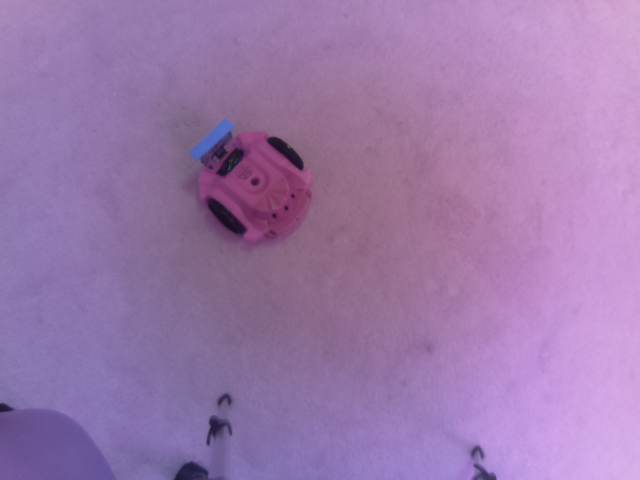board: (188, 118, 234, 162)
chassis: (190, 115, 321, 244)
